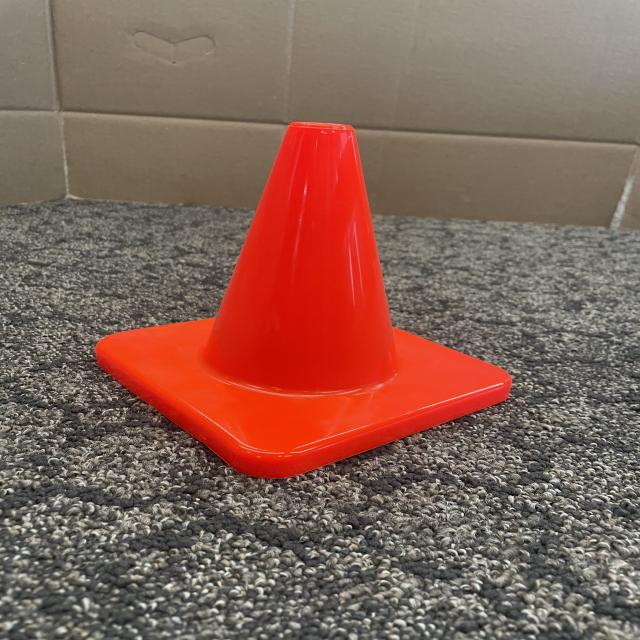Traffic Cone: (91, 120, 516, 474)
